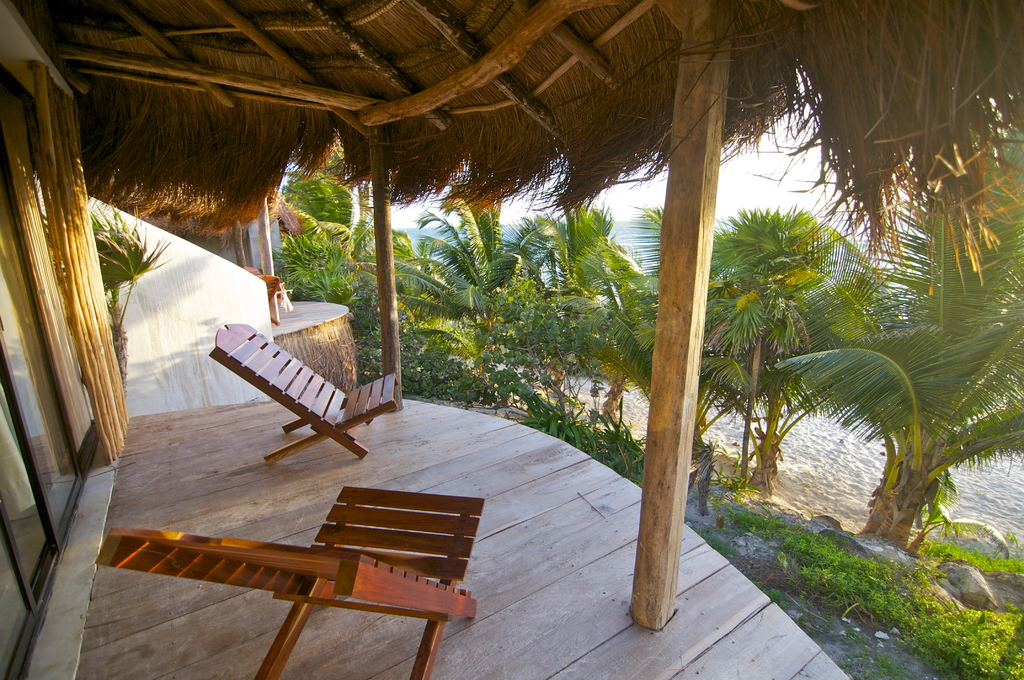Tree: (92, 199, 173, 398)
